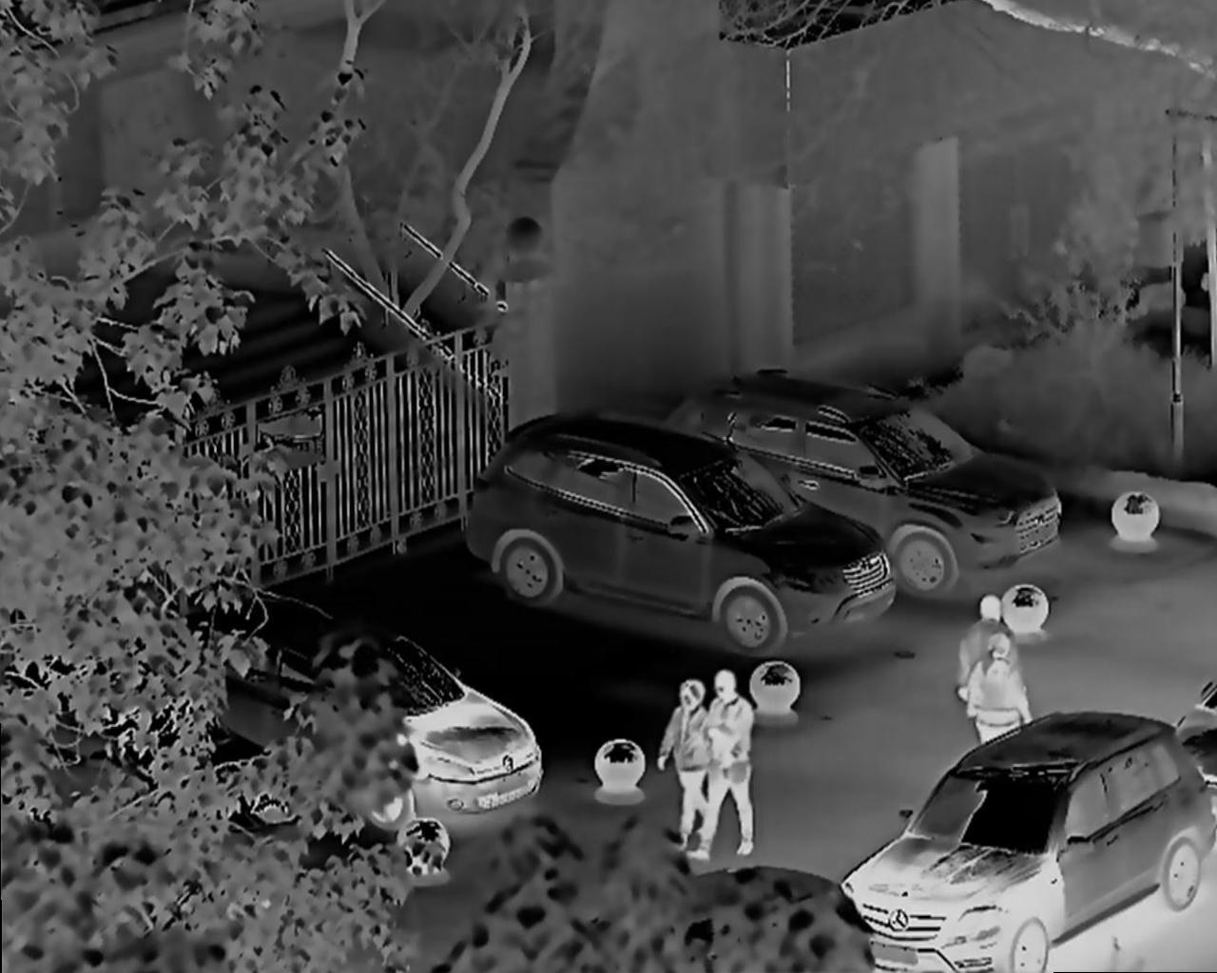person: (703, 669, 759, 867), (656, 676, 705, 855), (960, 636, 1028, 757), (949, 582, 1008, 648)
